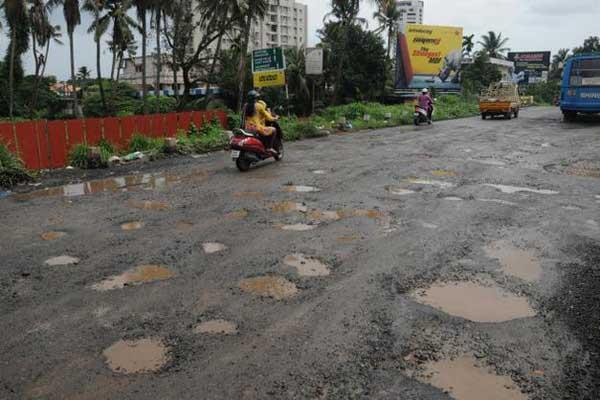pothole: (391, 338, 513, 398), (30, 156, 153, 209), (391, 269, 542, 312), (97, 323, 183, 376), (488, 173, 566, 206), (232, 267, 294, 305), (44, 242, 84, 274), (280, 179, 322, 199), (114, 215, 147, 235)
